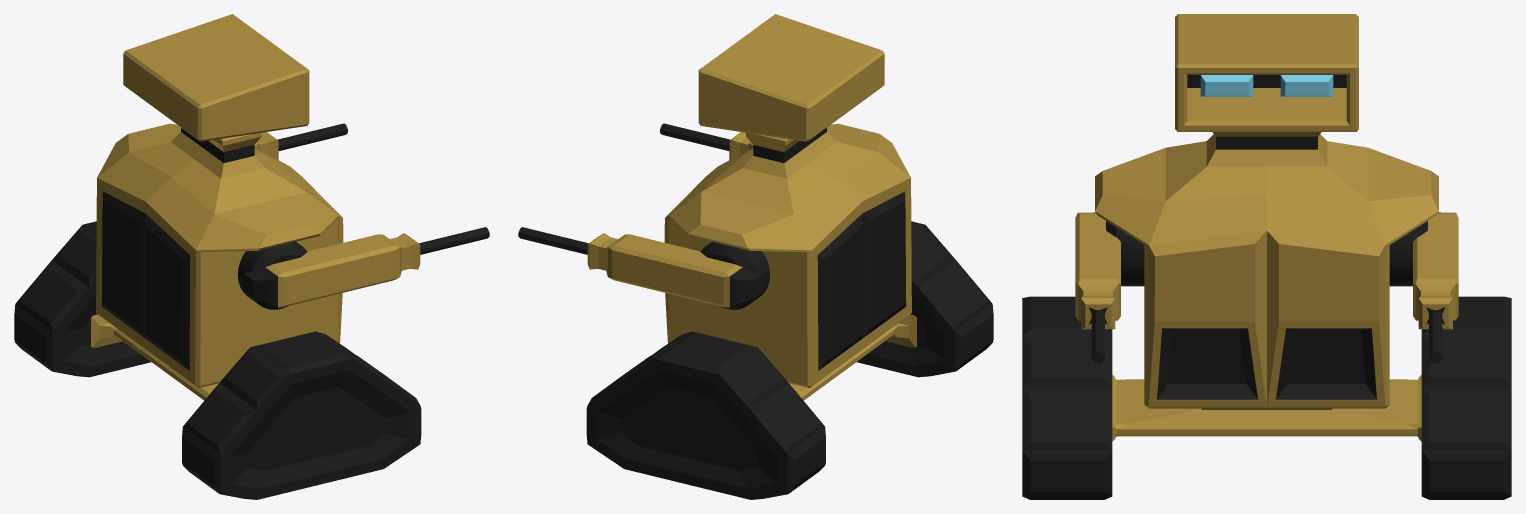
The model's file is wallEBot.fbx.
3 views of the same model, side by side, from view 1: azimuth 30°, elevation 25°; view 2: azimuth 150°, elevation 25°; view 3: azimuth 270°, elevation 25° (orthographic). The views are drawn at different scales.
Parts seen in each view (by area): view 1: Cube, Cube.001, Cube.002, Cylinder; view 2: Cube, Cube.001, Cube.002, Cylinder; view 3: Cube, Cube.001, Cube.002, Cylinder.
Boxes of the visible parts, box(x1,y1,x2,y2) form: Cube: box(91, 14, 343, 400); Cube.001: box(14, 221, 421, 499); Cube.002: box(244, 123, 489, 307); Cylinder: box(238, 241, 307, 309); Cube: box(664, 14, 916, 400); Cube.001: box(586, 221, 993, 499); Cube.002: box(518, 123, 763, 307); Cylinder: box(700, 241, 769, 309); Cube: box(1095, 14, 1438, 441); Cube.001: box(1022, 296, 1511, 499); Cube.002: box(1075, 212, 1458, 363); Cylinder: box(1106, 221, 1427, 286).
Bounding box in the file's own units: 433 × 416 × 368.
